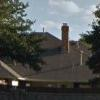Chimney: (53, 18, 83, 69)
